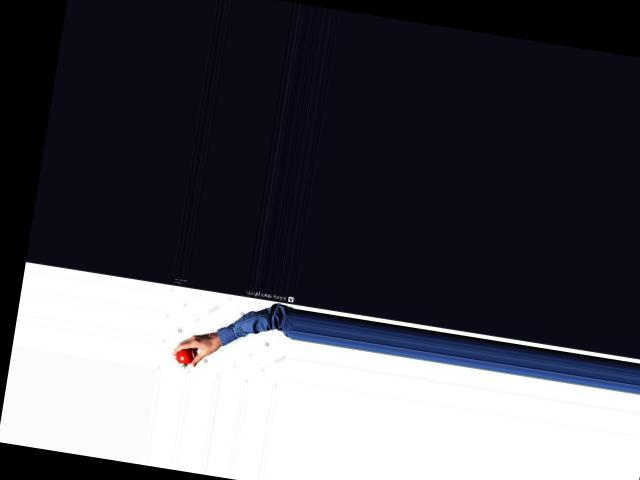tomato: (174, 348, 193, 364)
